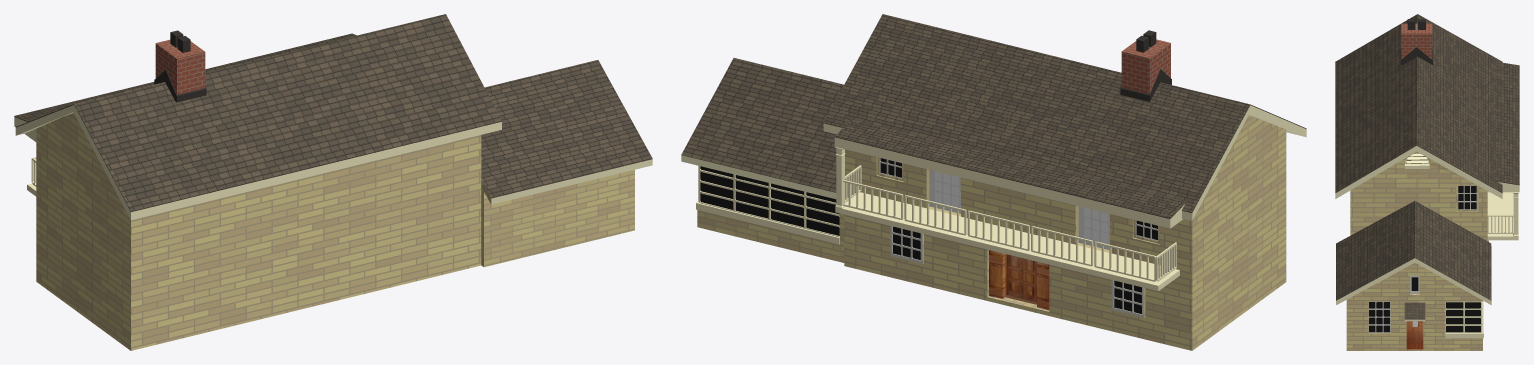
The model's file is Building.fbx.
3 renders of one model, left to right at view 1: azimuth 30°, elevation 25°; view 2: azimuth 150°, elevation 25°; view 3: azimuth 270°, elevation 25°, orthographic. The views are drawn at different scales.
Parts seen in each view (by area): view 1: House.008; view 2: House.008; view 3: House.008.
Boxes of the visible parts, box(x1,y1,x2,y2) form: House.008: box(14, 14, 652, 350); House.008: box(681, 14, 1306, 350); House.008: box(1335, 14, 1519, 350).
Size of the model in its own units: 976 by 447 by 399.
